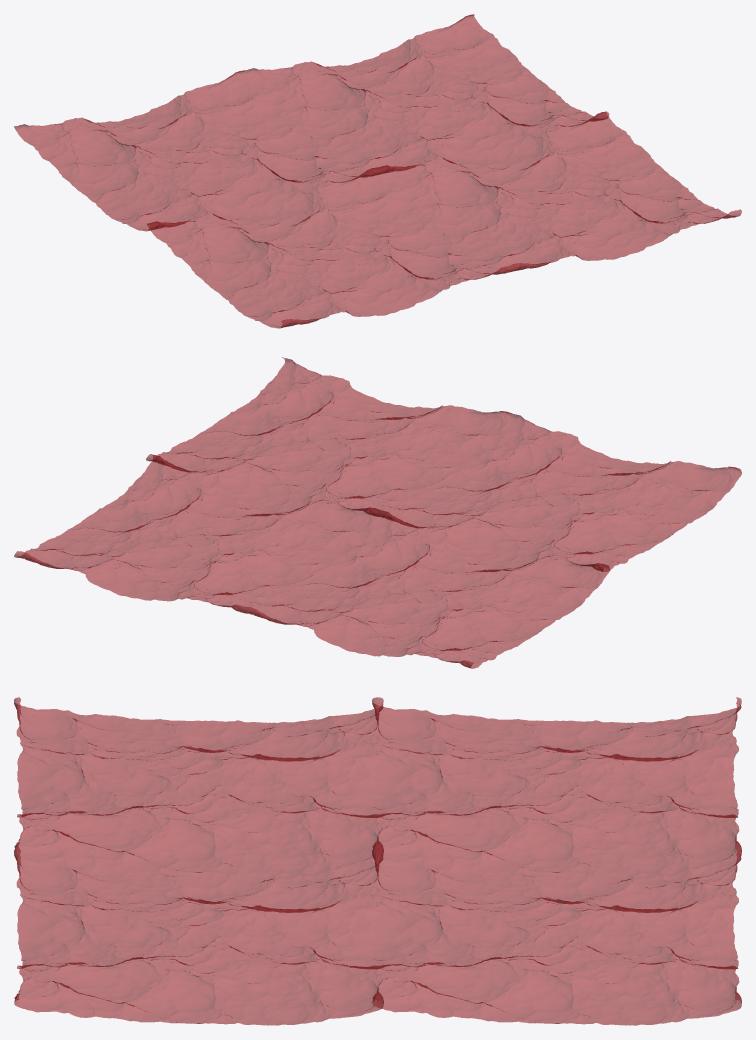
File: morze1.glb
The picture shows the model from 3 angles, top to bottom: view 1: azimuth 30°, elevation 25°; view 2: azimuth 150°, elevation 25°; view 3: azimuth 270°, elevation 25°; orthographic projection. The views are drawn at different scales.
Visible parts, largest first — view 1: Plane; view 2: Plane; view 3: Plane.
Boxes of the visible parts, x1,y1,x2,y2 form: Plane: (14,14,741,328); Plane: (14,357,741,668); Plane: (14,697,741,1025).
Bounding box in the file's own units: 102 × 4.34 × 102.
Materials: 1 (1 with a texture image).
